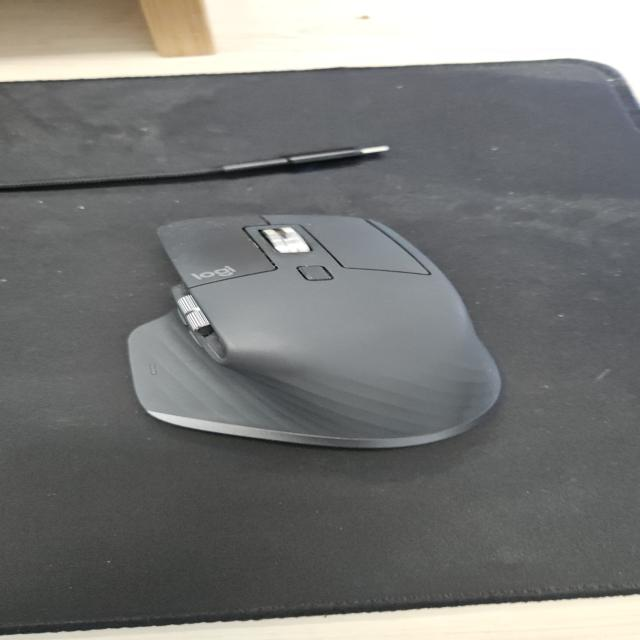Mouse: (124, 211, 507, 450)
